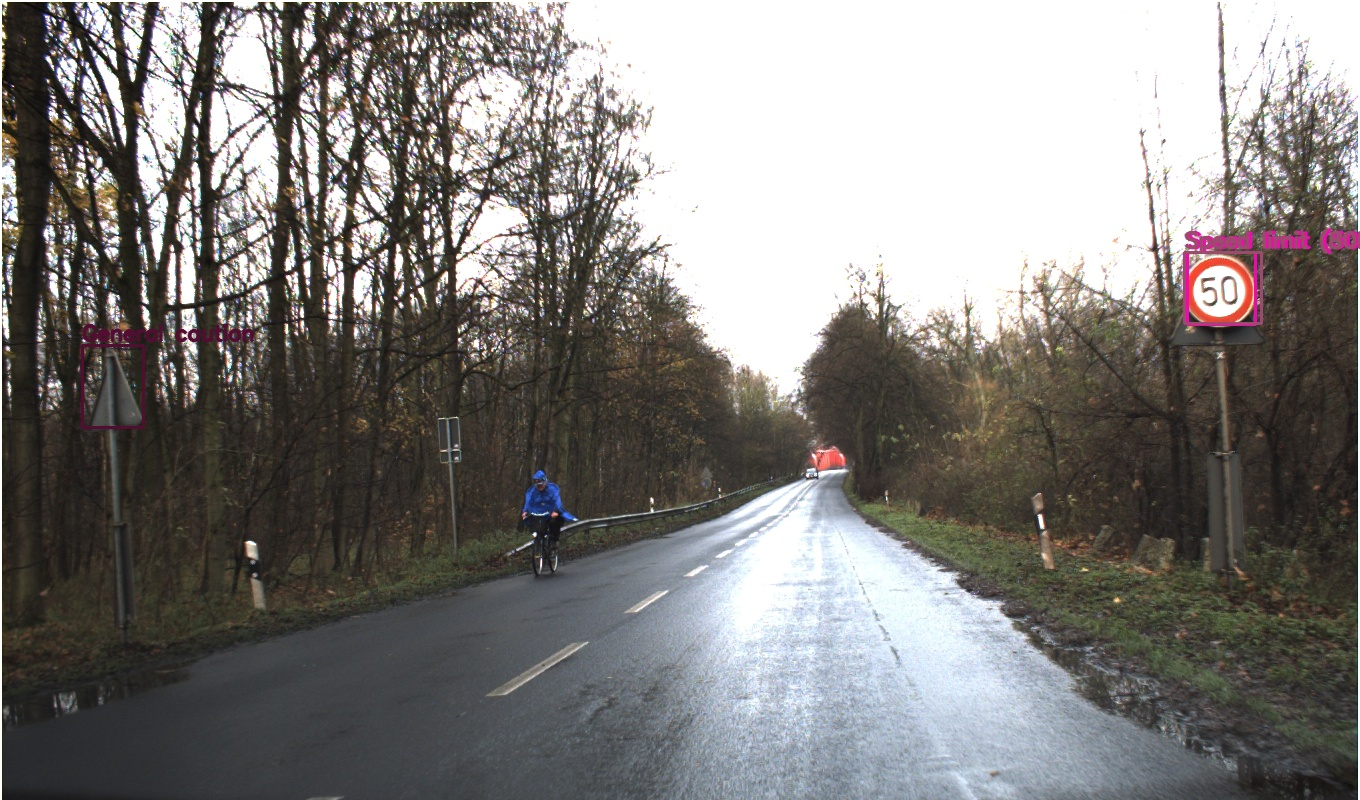Slippery road: (1264, 368, 1295, 398)
Speed limit (50km/h): (1172, 270, 1237, 336)
